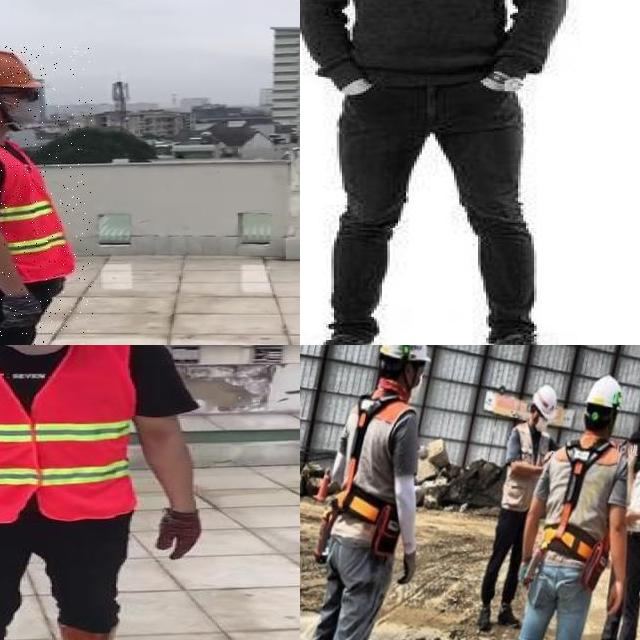Harness: (541, 441, 612, 562), (335, 396, 392, 524)
hand_glove: (159, 509, 201, 559)
head_helmet: (0, 45, 47, 93)
person: (300, 0, 567, 345), (0, 345, 231, 640), (0, 46, 93, 345)
vest: (0, 345, 141, 517), (0, 133, 78, 281)
